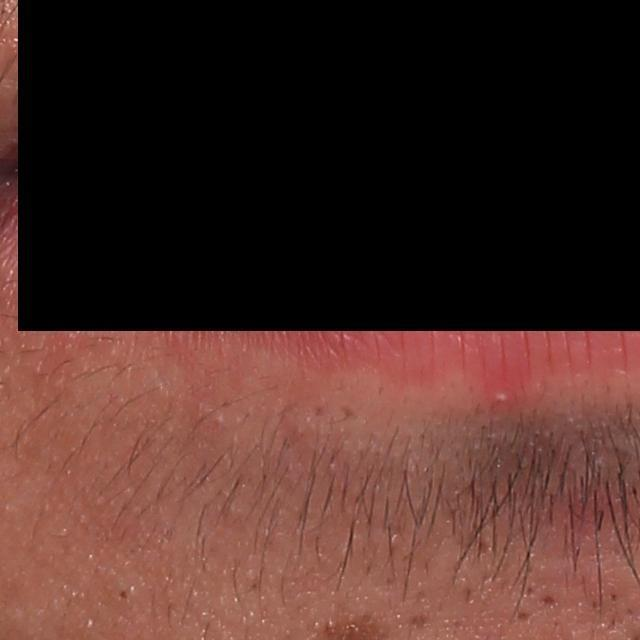atrophic_scar: (537, 593, 560, 608)
comedo: (107, 581, 136, 610)
